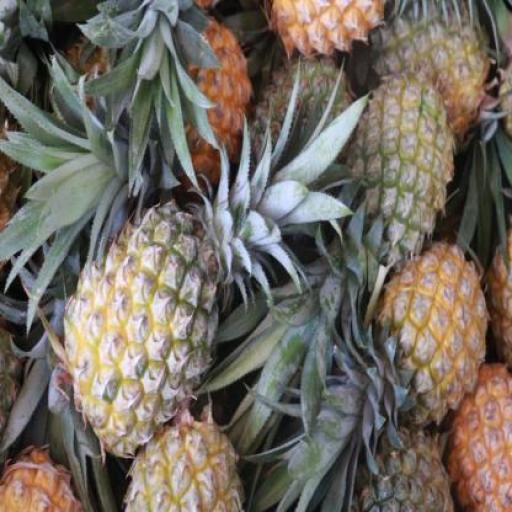------------------------------: (63, 209, 215, 457), (353, 72, 453, 266), (374, 0, 494, 144), (124, 408, 245, 510)
Pineapple - v8 v1: (379, 242, 486, 425)
